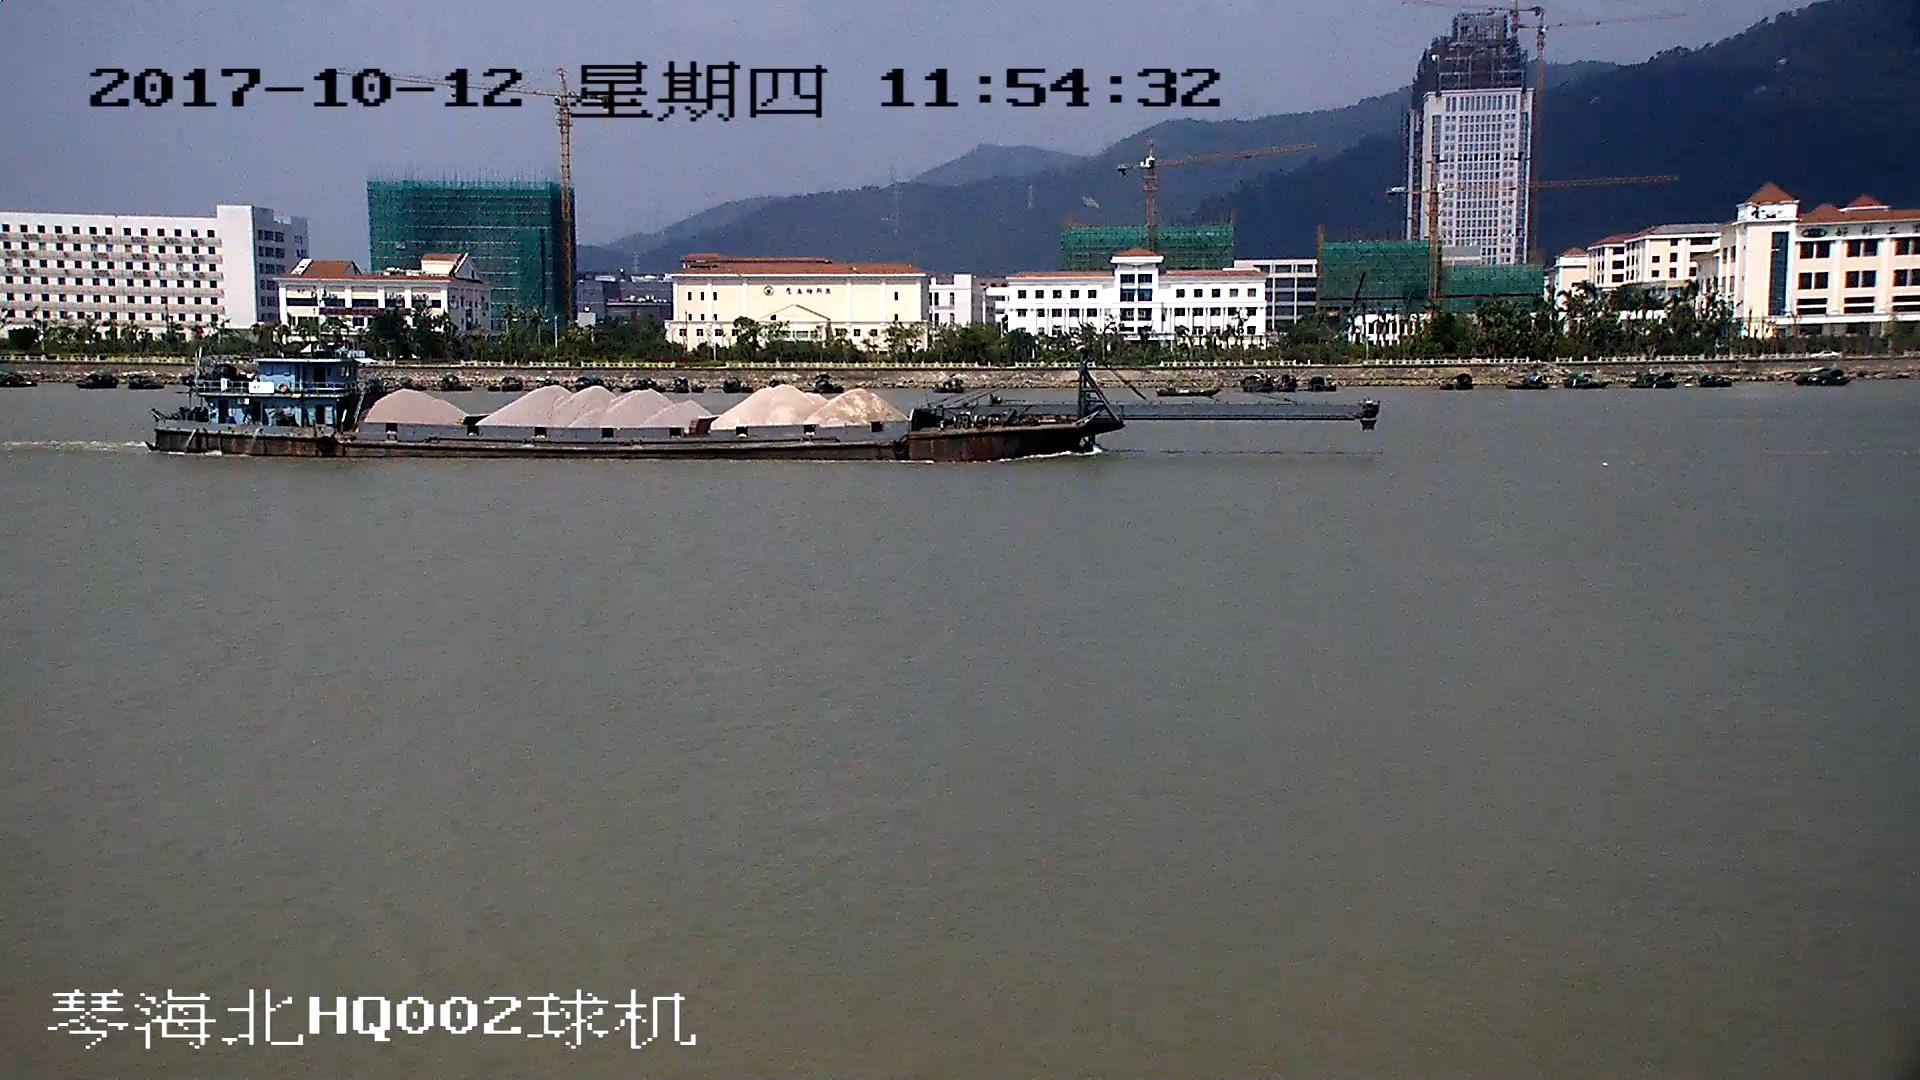ore carrier: (148, 345, 1376, 458)
